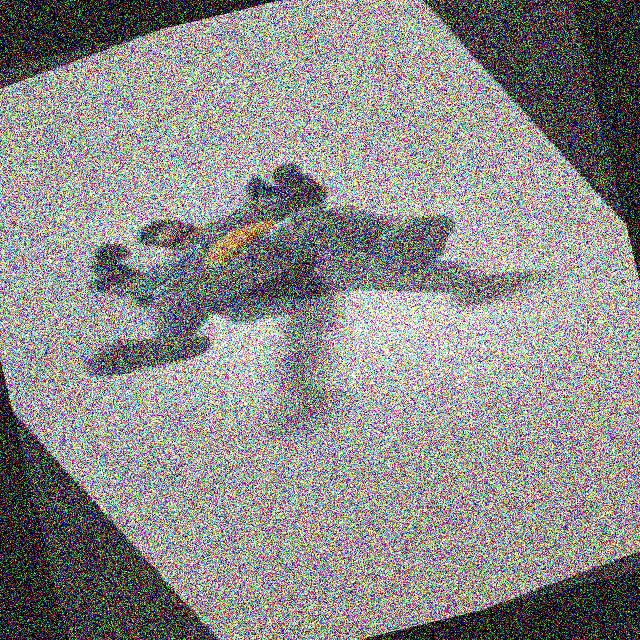Batman: (0, 107, 496, 409)
